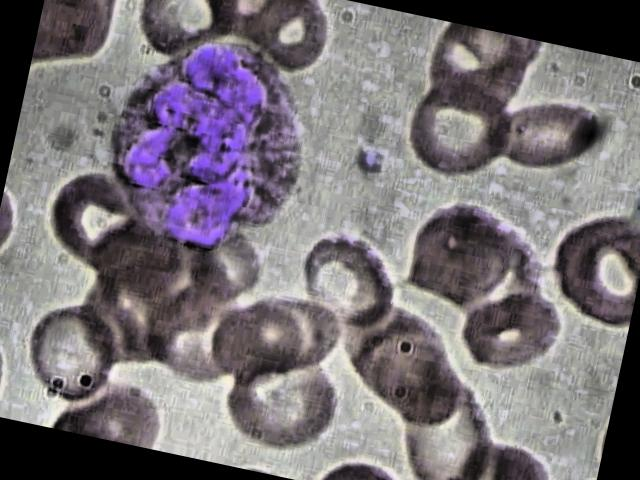Platelets: (351, 142, 392, 179)
RBC: (394, 184, 530, 322), (205, 335, 348, 465), (370, 358, 518, 480), (282, 219, 413, 339), (5, 290, 136, 410), (392, 70, 522, 190), (489, 75, 616, 186), (538, 199, 640, 333), (456, 271, 572, 380), (120, 0, 244, 72)
WBC: (70, 15, 342, 279)
